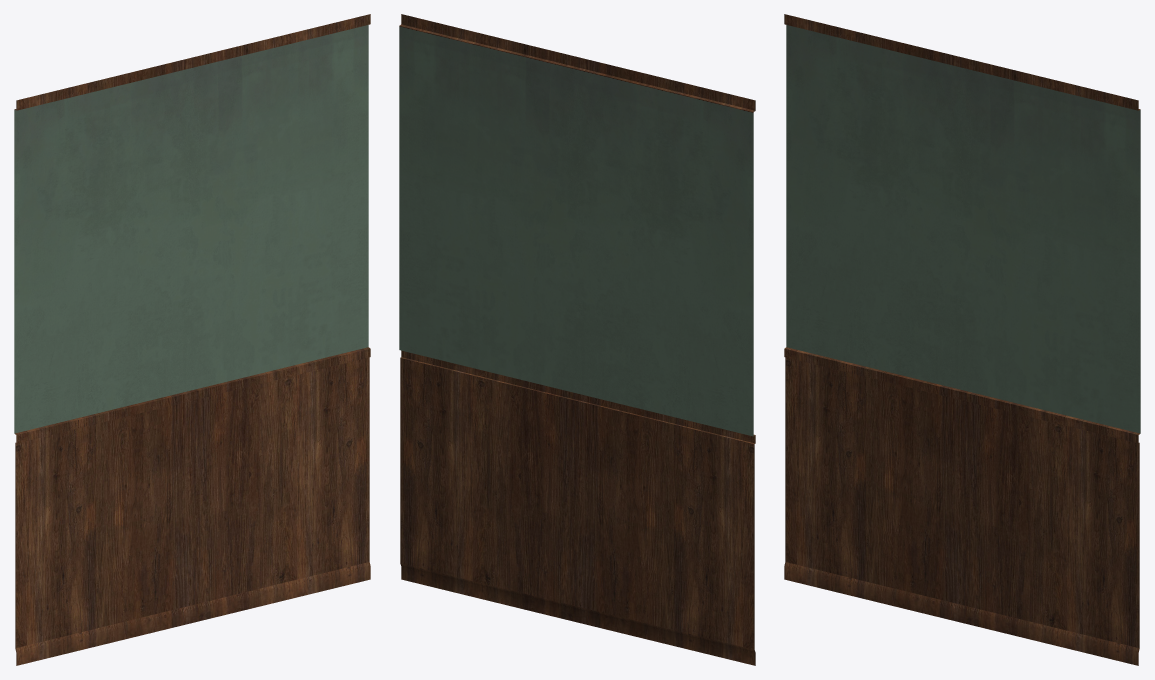
File: MT_RecMidWall.fbx
3 renders of one model, left to right at view 1: azimuth 30°, elevation 25°; view 2: azimuth 150°, elevation 25°; view 3: azimuth 330°, elevation 25°, orthographic.
Visible parts, largest first — view 1: LP_Mi_Re; view 2: LP_Mi_Re; view 3: LP_Mi_Re.
Boxes of the visible parts, box(x1,y1,x2,y2) form: LP_Mi_Re: box(14, 14, 370, 665); LP_Mi_Re: box(399, 14, 755, 665); LP_Mi_Re: box(784, 14, 1140, 665).
Bounding box in the file's own units: 200 × 305 × 1.96.
Materials: 1 (1 with a texture image).
